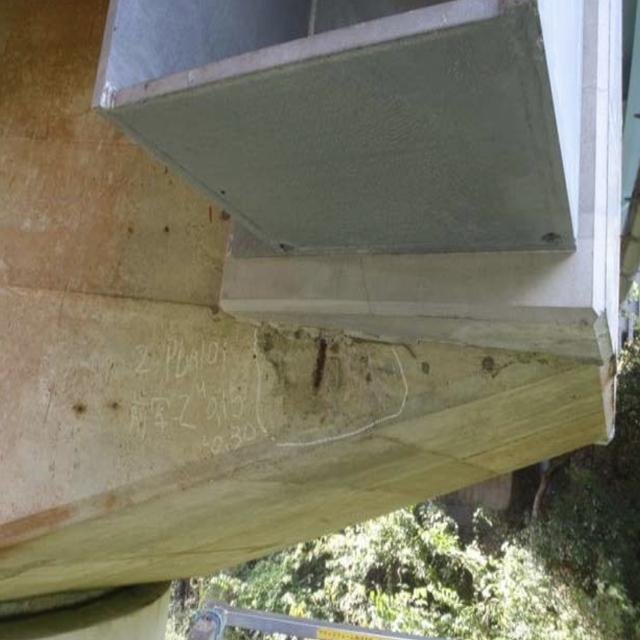spalling: (240, 310, 410, 447)
